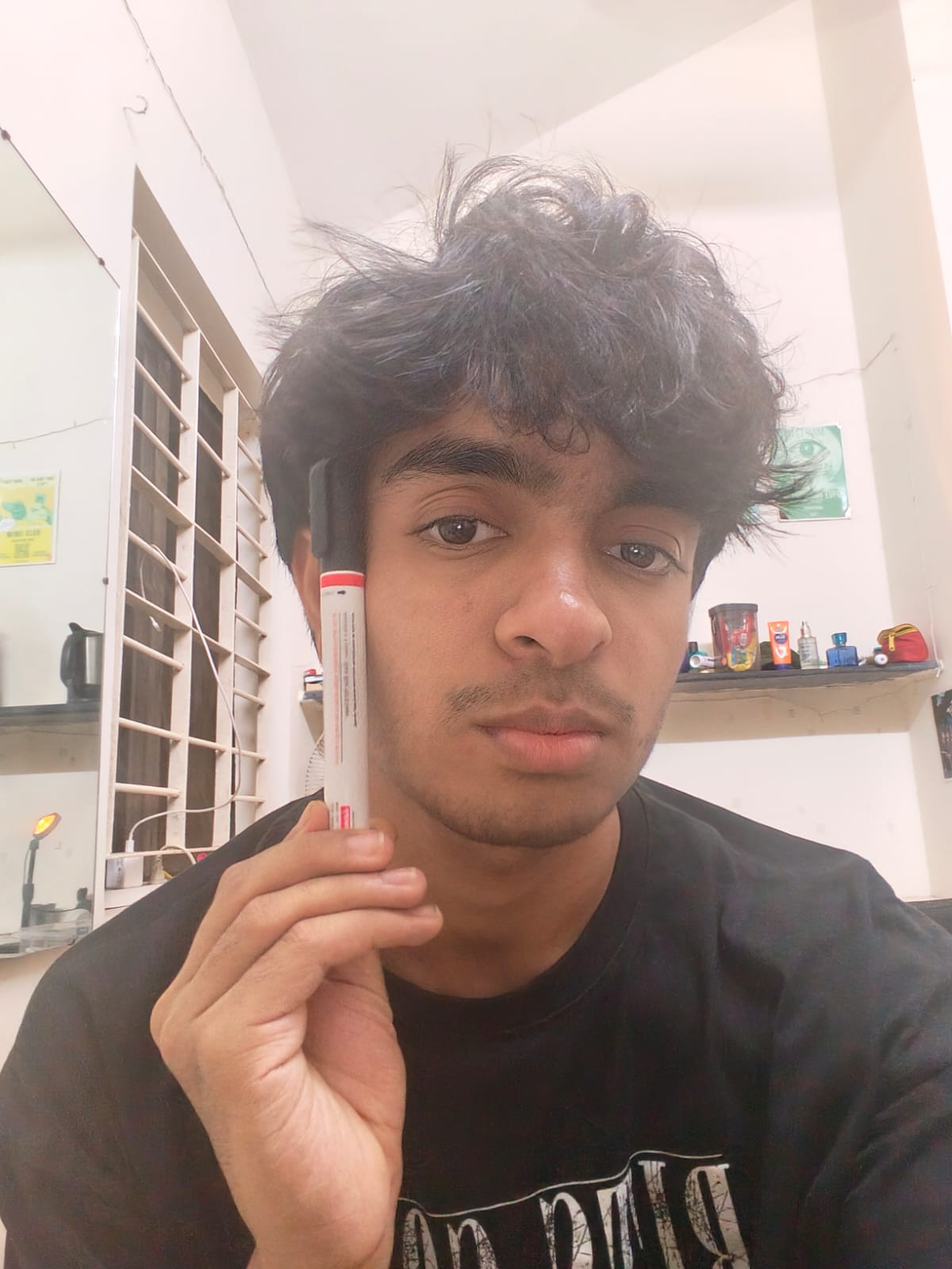case: (303, 442, 389, 839)
